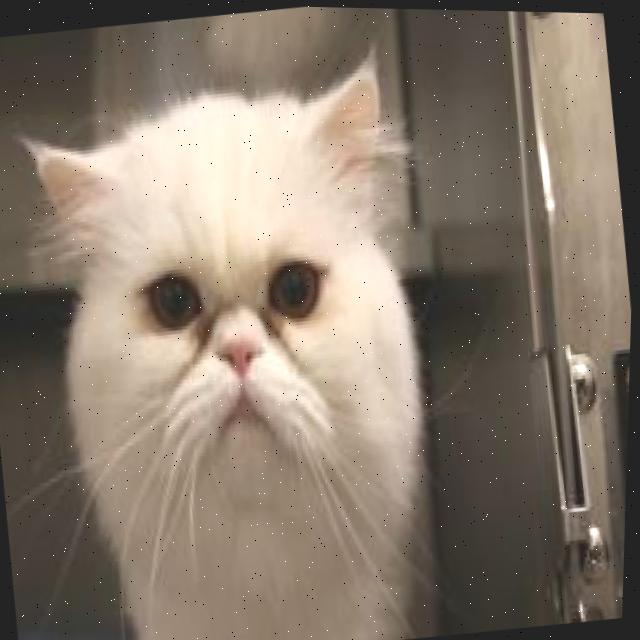Persian: (0, 0, 478, 640)
